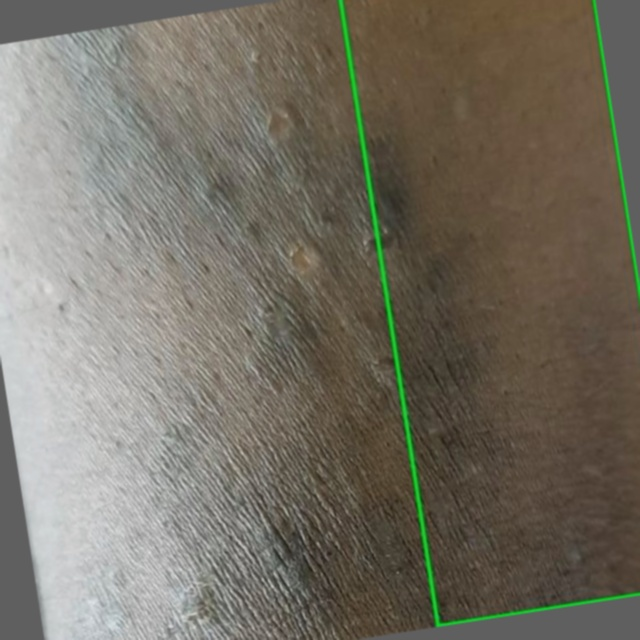Contact Dermatitis: (340, 0, 639, 625)
